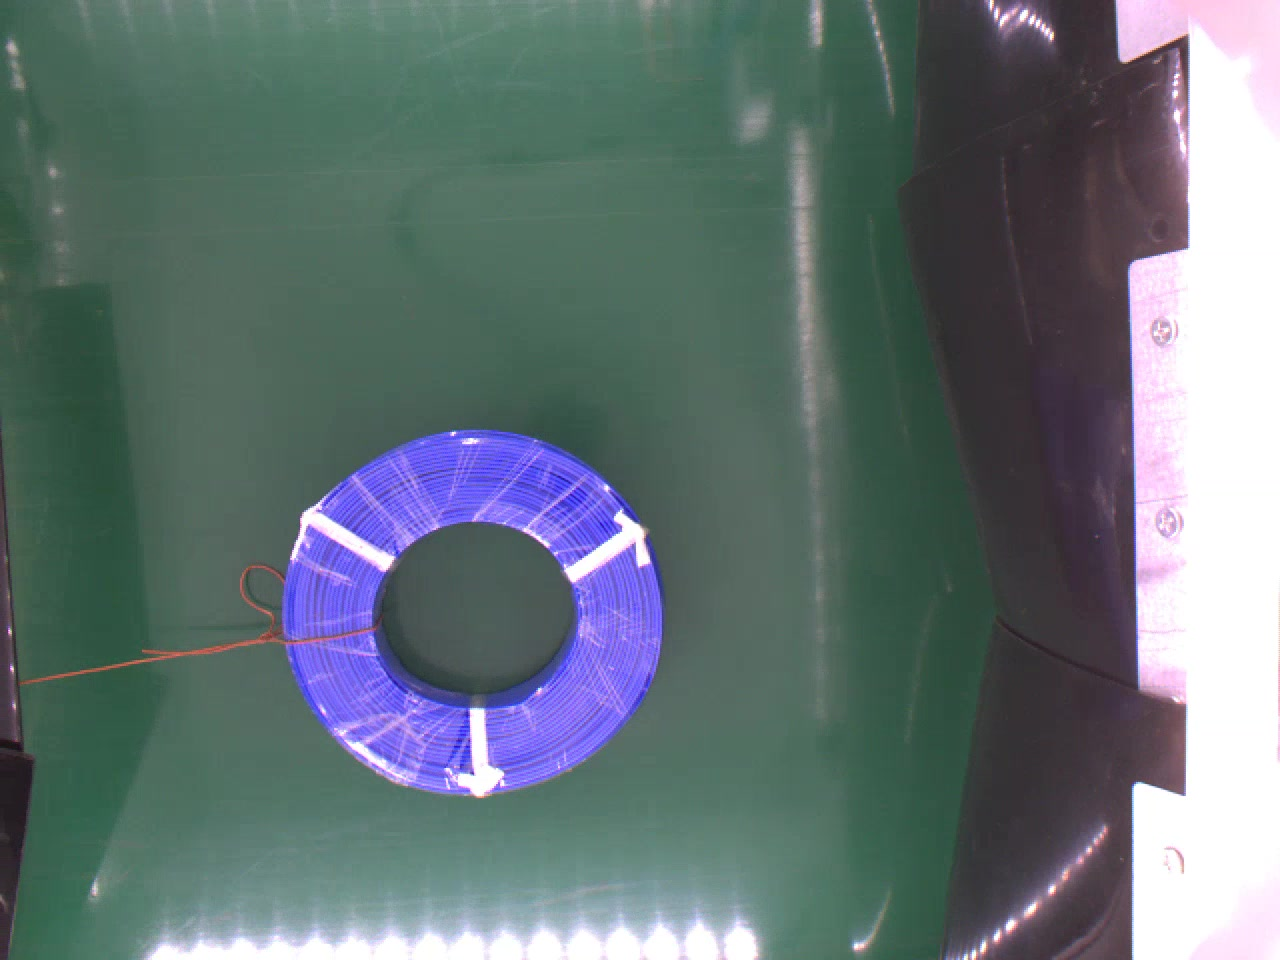blue: (278, 426, 666, 797)
